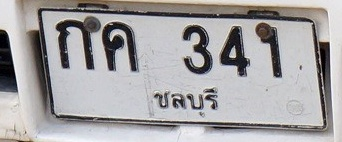txt01: (54, 17, 97, 72)
txt03: (99, 20, 140, 74)
